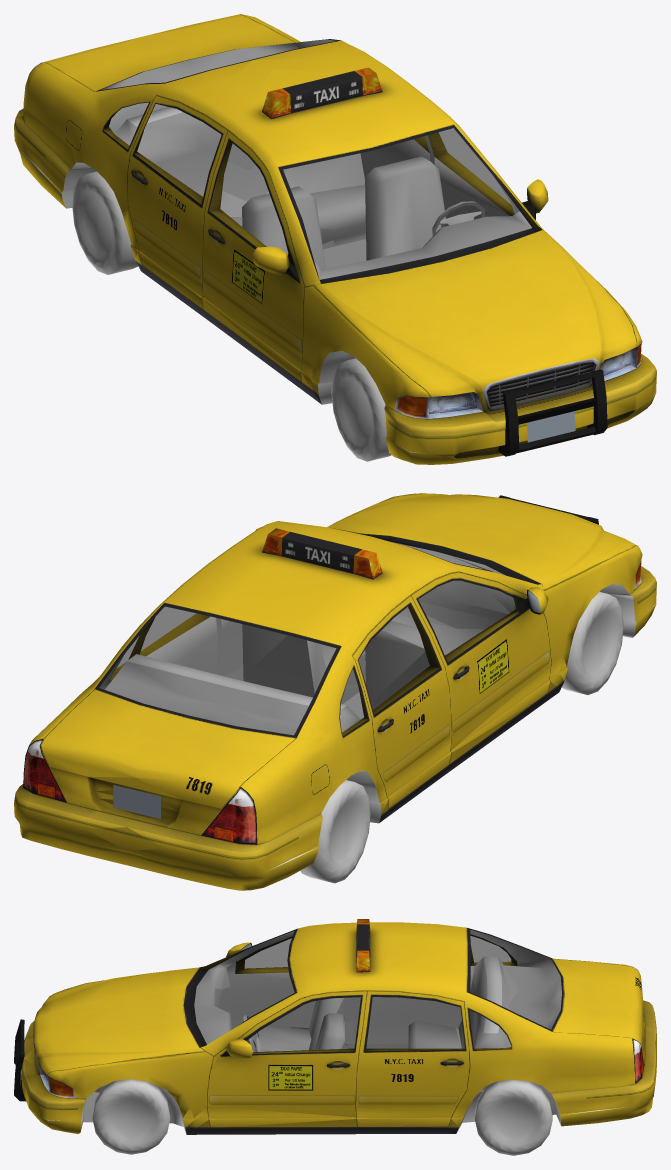
The model's file is us_taxi.fbx.
3 renders of one model, top to bottom at view 1: azimuth 30°, elevation 25°; view 2: azimuth 150°, elevation 25°; view 3: azimuth 270°, elevation 25°, orthographic. The views are drawn at different scales.
Parts seen in each view (by area): view 1: us_police_1; view 2: us_police_1; view 3: us_police_1.
Part boxes in pixels (left/top/right/bottom): us_police_1: left=14, top=14, right=656, bottom=464; us_police_1: left=14, top=493, right=656, bottom=890; us_police_1: left=14, top=919, right=656, bottom=1155.
Bounding box in the file's own units: 94.03 × 71.48 × 240.
